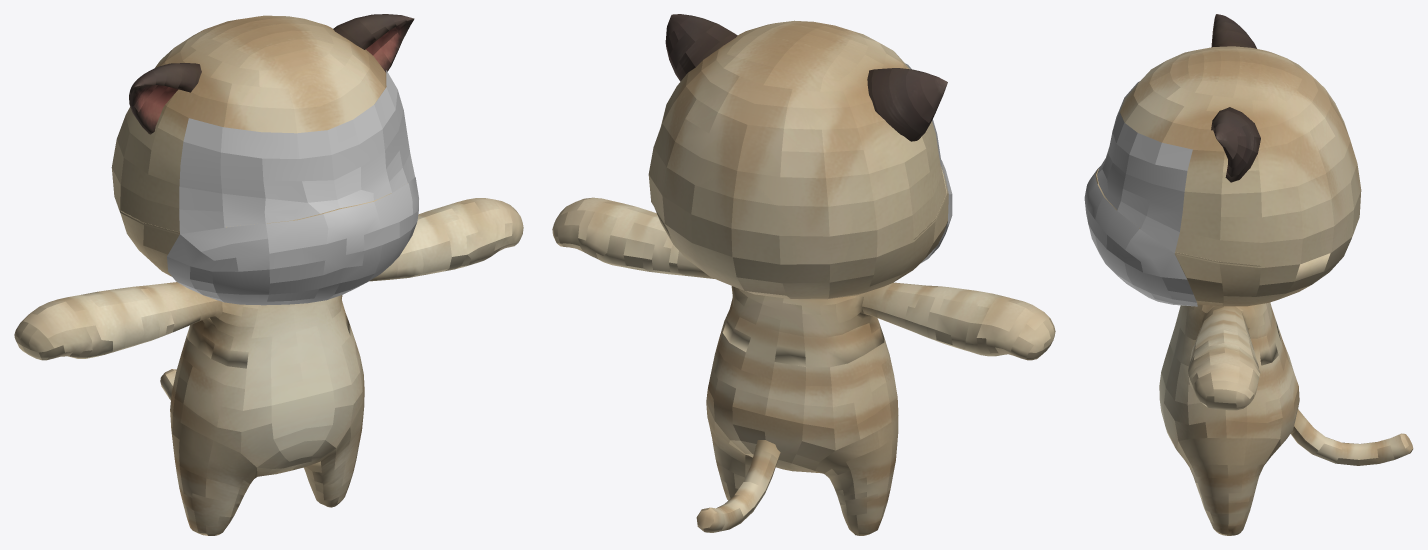
The model's file is Test Broken3.fbx.
3 views of the same model, side by side, from view 1: azimuth 30°, elevation 25°; view 2: azimuth 150°, elevation 25°; view 3: azimuth 270°, elevation 25° (orthographic). The views are drawn at different scales.
Visible parts, largest first — view 1: Chibi_Cat.086, Chibi_Cat.106, Chibi_Cat.291, Chibi_Cat.076, Chibi_Cat.289, Chibi_Cat.129, Chibi_Cat.137, Chibi_Cat.134, Chibi_Cat.127, Chibi_Cat.186, Chibi_Cat.044, Chibi_Cat.085 (+69 smaller); view 2: Chibi_Cat.087, Chibi_Cat.124, Chibi_Cat.084, Chibi_Cat.089, Chibi_Cat.060, Chibi_Cat.209, Chibi_Cat.056, Chibi_Cat.057, Chibi_Cat.058, Chibi_Cat.059, Chibi_Cat.083, Chibi_Cat.106 (+65 smaller); view 3: Chibi_Cat.073, Chibi_Cat.082, Chibi_Cat.097, Chibi_Cat.132, Chibi_Cat.300, Chibi_Cat.081, Chibi_Cat.095, Chibi_Cat.080, Chibi_Cat.299, Chibi_Cat.186, Chibi_Cat.083, Chibi_Cat.293 (+64 smaller).
Part boxes in pixels (<box>): Chibi_Cat.086: <box>148,128,221,193</box>; Chibi_Cat.106: <box>112,158,224,233</box>; Chibi_Cat.291: <box>271,390,334,439</box>; Chibi_Cat.076: <box>221,127,299,158</box>; Chibi_Cat.289: <box>183,366,244,426</box>; Chibi_Cat.129: <box>322,202,381,254</box>; Chibi_Cat.137: <box>143,223,238,271</box>; Chibi_Cat.134: <box>145,223,364,274</box>; Chibi_Cat.127: <box>266,213,328,253</box>; Chibi_Cat.186: <box>400,208,523,254</box>; Chibi_Cat.044: <box>224,103,296,133</box>; Chibi_Cat.085: <box>220,152,265,198</box>; Chibi_Cat.087: <box>731,198,829,236</box>; Chibi_Cat.124: <box>779,230,877,264</box>; Chibi_Cat.084: <box>733,171,828,206</box>; Chibi_Cat.089: <box>828,162,909,236</box>; Chibi_Cat.060: <box>675,112,747,170</box>; Chibi_Cat.209: <box>804,323,883,367</box>; Chibi_Cat.056: <box>857,120,925,173</box>; Chibi_Cat.057: <box>780,128,863,178</box>; Chibi_Cat.058: <box>782,128,868,178</box>; Chibi_Cat.059: <box>737,125,783,176</box>; Chibi_Cat.083: <box>667,142,736,197</box>; Chibi_Cat.106: <box>877,154,947,256</box>; Chibi_Cat.073: <box>1155,138,1297,194</box>; Chibi_Cat.082: <box>1123,174,1221,240</box>; Chibi_Cat.097: <box>1175,231,1302,267</box>; Chibi_Cat.132: <box>1125,229,1221,283</box>; Chibi_Cat.300: <box>1178,418,1282,465</box>; Chibi_Cat.081: <box>1126,155,1261,217</box>; Chibi_Cat.095: <box>1220,211,1302,242</box>; Chibi_Cat.080: <box>1129,131,1325,185</box>; Chibi_Cat.299: <box>1175,358,1293,440</box>; Chibi_Cat.186: <box>1189,306,1243,404</box>; Chibi_Cat.083: <box>1108,132,1357,198</box>; Chibi_Cat.293: <box>1187,398,1282,438</box>.
Size of the model in its own units: 948 by 883 by 593.
